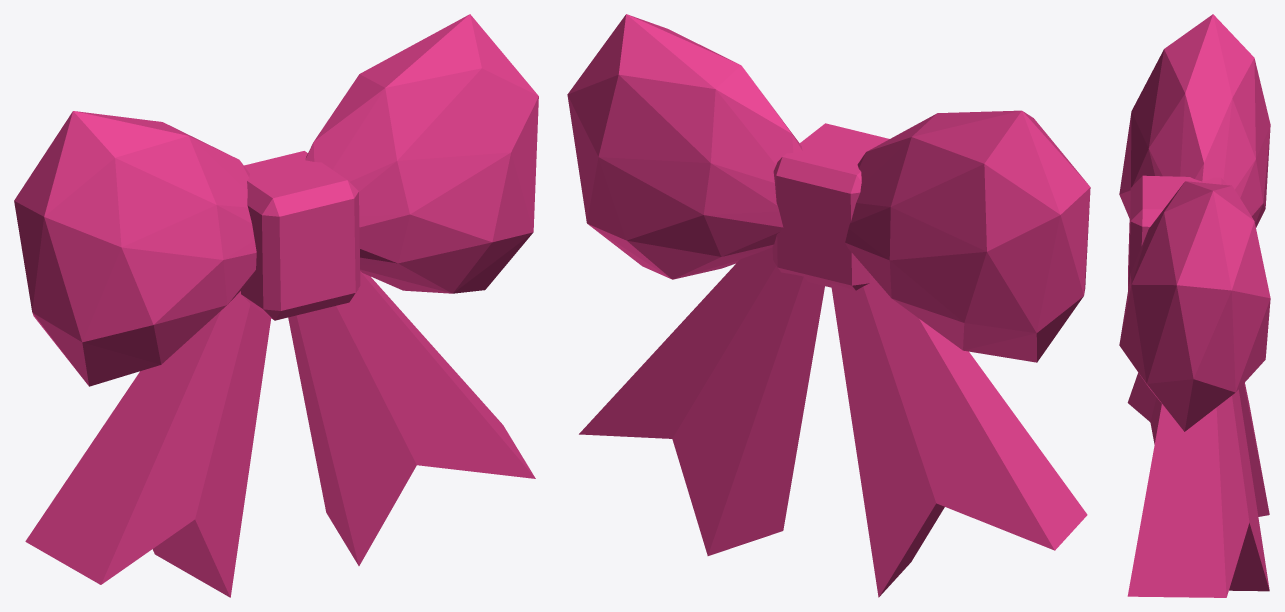
Rendered from bow.fbx.
3 views of the same model, side by side, from view 1: azimuth 30°, elevation 25°; view 2: azimuth 150°, elevation 25°; view 3: azimuth 270°, elevation 25° (orthographic). The views are drawn at different scales.
Visible parts, largest first — view 1: Cube.001; view 2: Cube.001; view 3: Cube.001.
Boxes of the visible parts, bbox=[...] form: Cube.001: bbox=[14, 14, 538, 597]; Cube.001: bbox=[567, 14, 1090, 597]; Cube.001: bbox=[1119, 14, 1270, 597].
Bounding box in the file's own units: 392 × 376 × 112.
